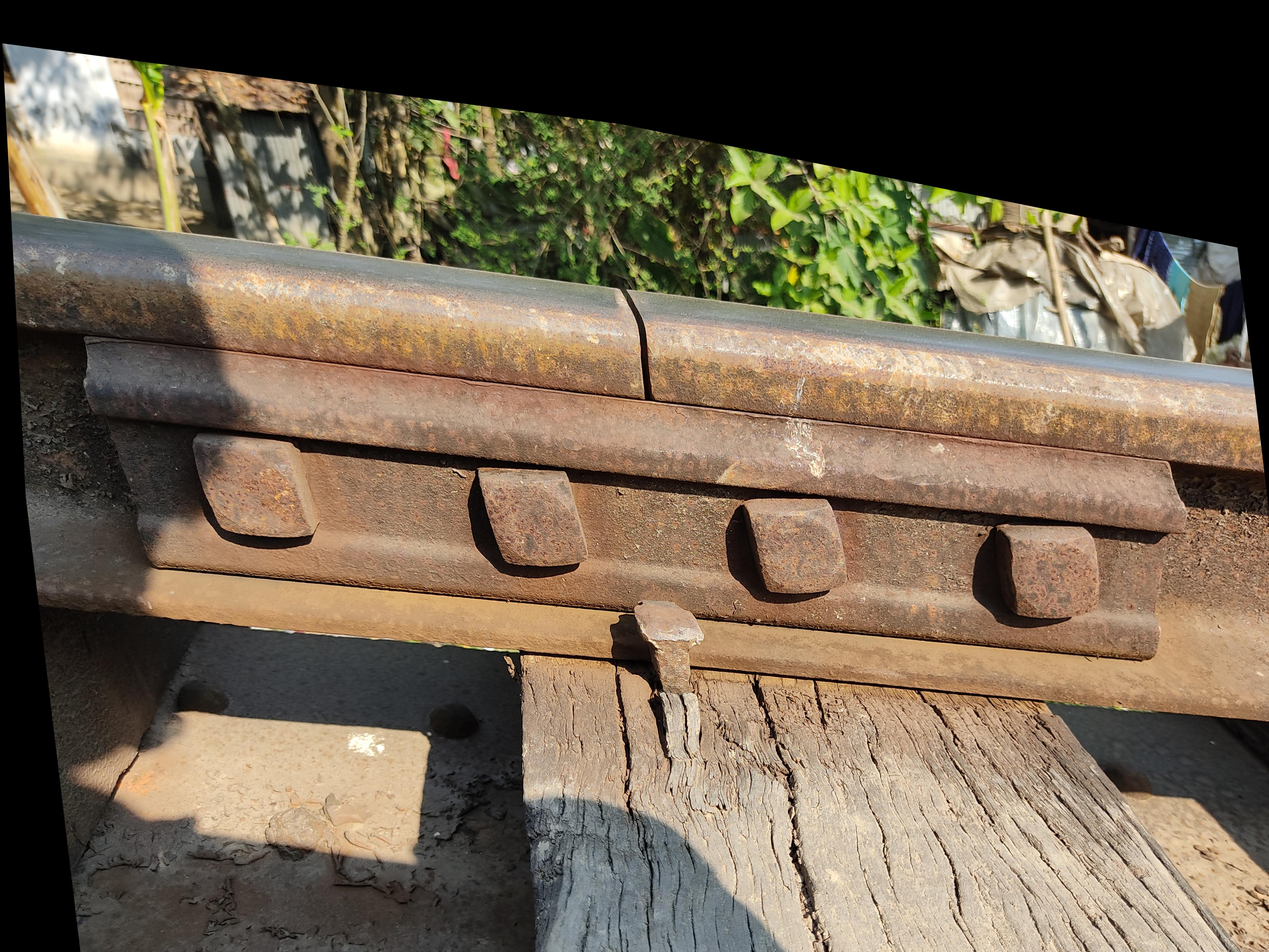person: (507, 249, 718, 463)
